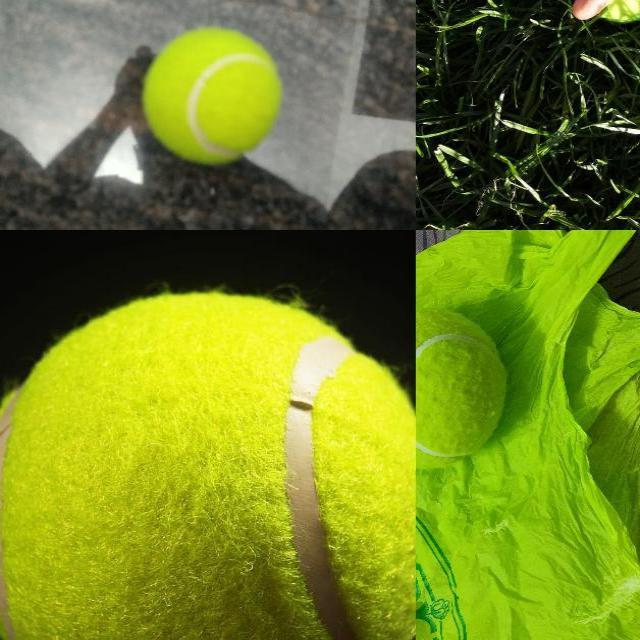tennis-ball: (0, 290, 415, 639), (141, 26, 281, 166), (416, 305, 508, 469)
